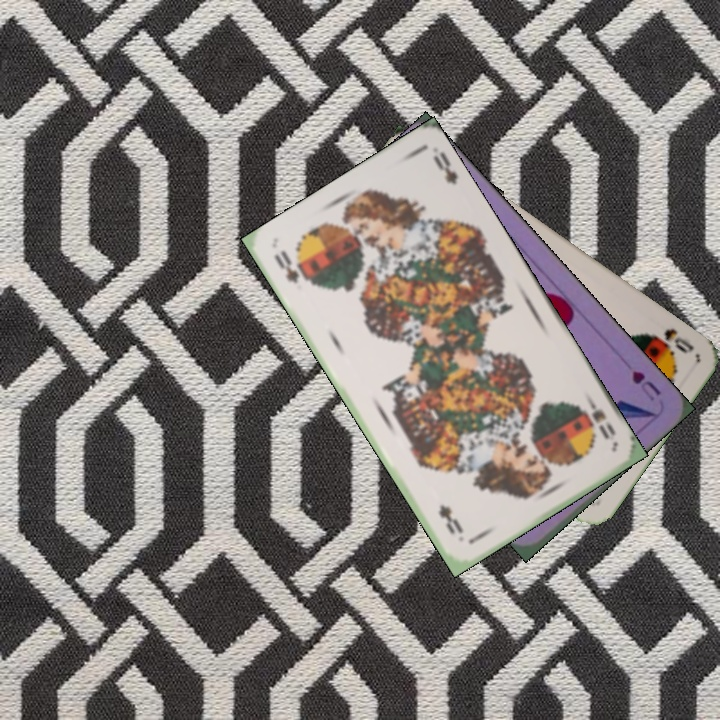HU: (627, 366, 664, 404)
SO: (582, 391, 618, 443), (648, 324, 697, 357), (270, 245, 302, 287)
